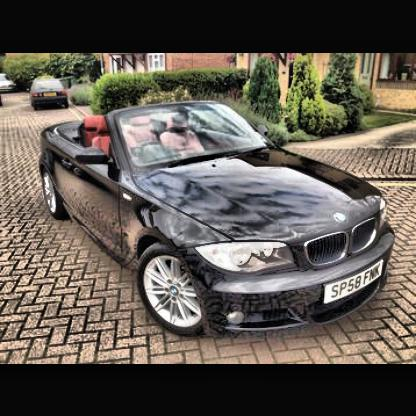BMW 1 Series Convertible 2012: (41, 98, 400, 338)
